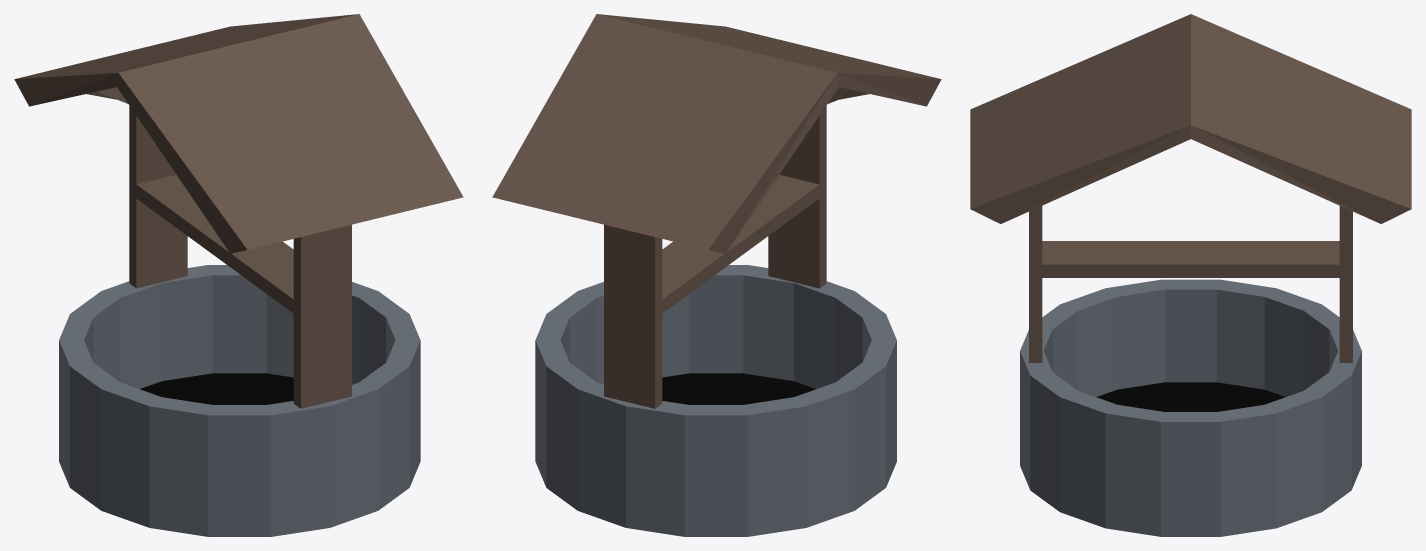
The model's file is well.fbx.
3 views of the same model, side by side, from view 1: azimuth 30°, elevation 25°; view 2: azimuth 150°, elevation 25°; view 3: azimuth 270°, elevation 25° (orthographic). The views are drawn at different scales.
Visible parts, largest first — view 1: Cylinder, Cube.001, Cube, Cylinder.001; view 2: Cylinder, Cube.001, Cube, Cylinder.001; view 3: Cylinder, Cube.001, Cube, Cylinder.001.
Boxes of the visible parts, x1,y1,x2,y2 form: Cylinder: (59,265,420,536); Cube.001: (14,14,463,253); Cube: (87,87,351,408); Cylinder.001: (140,373,293,404); Cylinder: (535,265,896,536); Cube.001: (492,14,941,253); Cube: (604,87,868,408); Cylinder.001: (662,373,815,404); Cylinder: (1020,279,1361,536); Cube.001: (970,14,1411,223); Cube: (1029,206,1352,362); Cylinder.001: (1096,382,1285,411).
Bounding box in the file's own units: 459 × 595 × 602.
